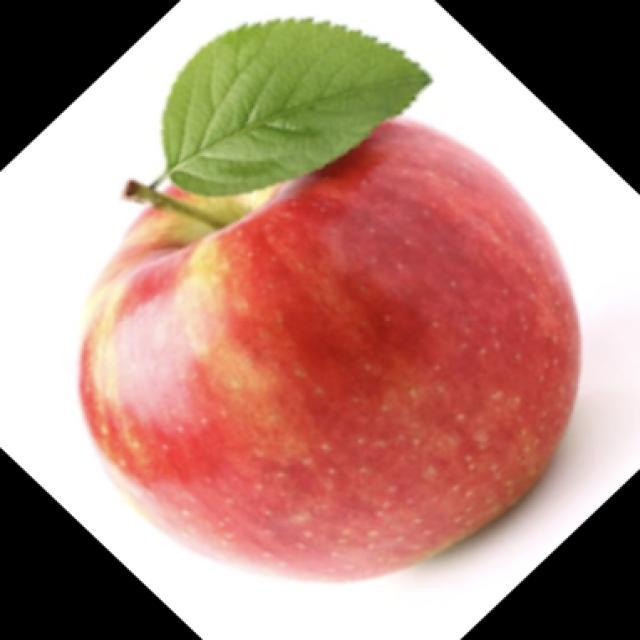Fresh Apple: (65, 115, 579, 584)
